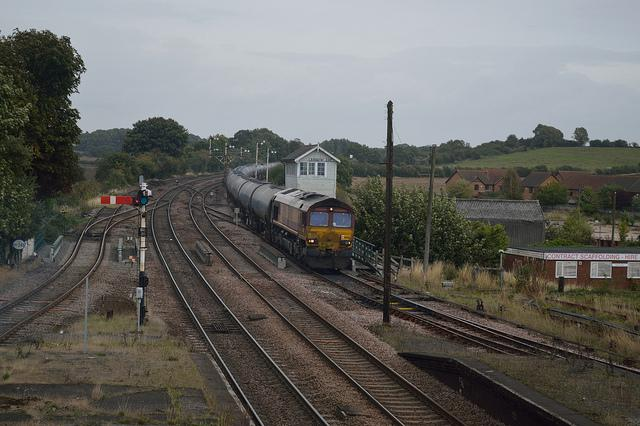Train: (224, 160, 357, 269)
